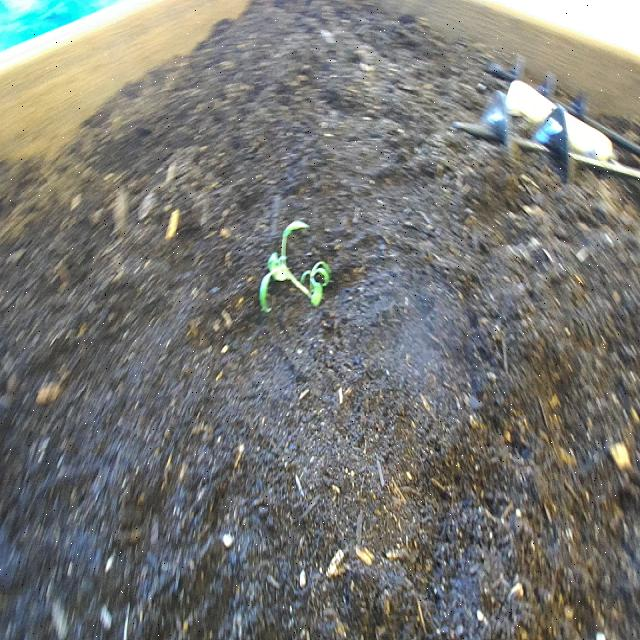Healthy: (252, 202, 331, 316)
